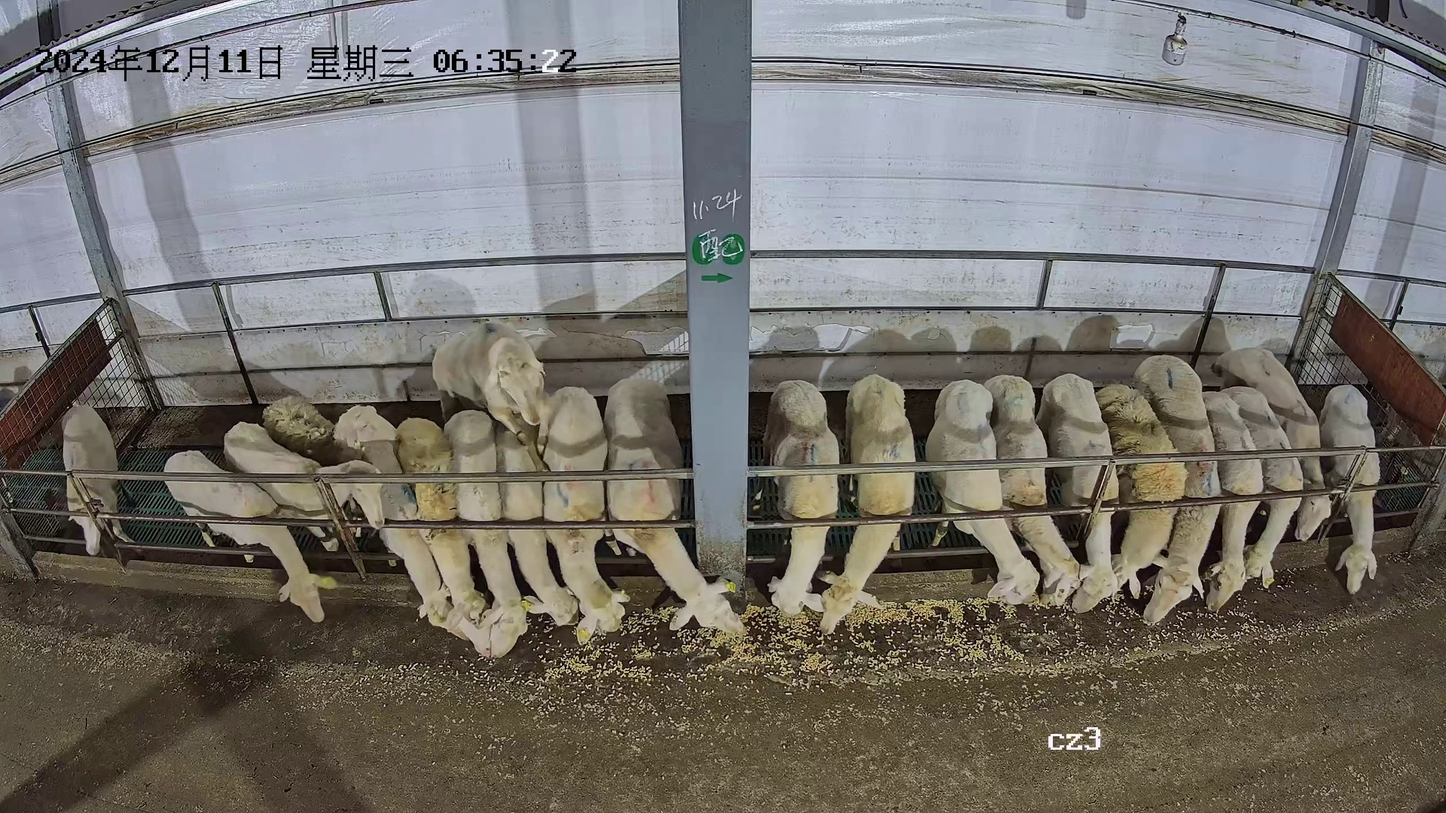Nmounting: (430, 317, 557, 626)
